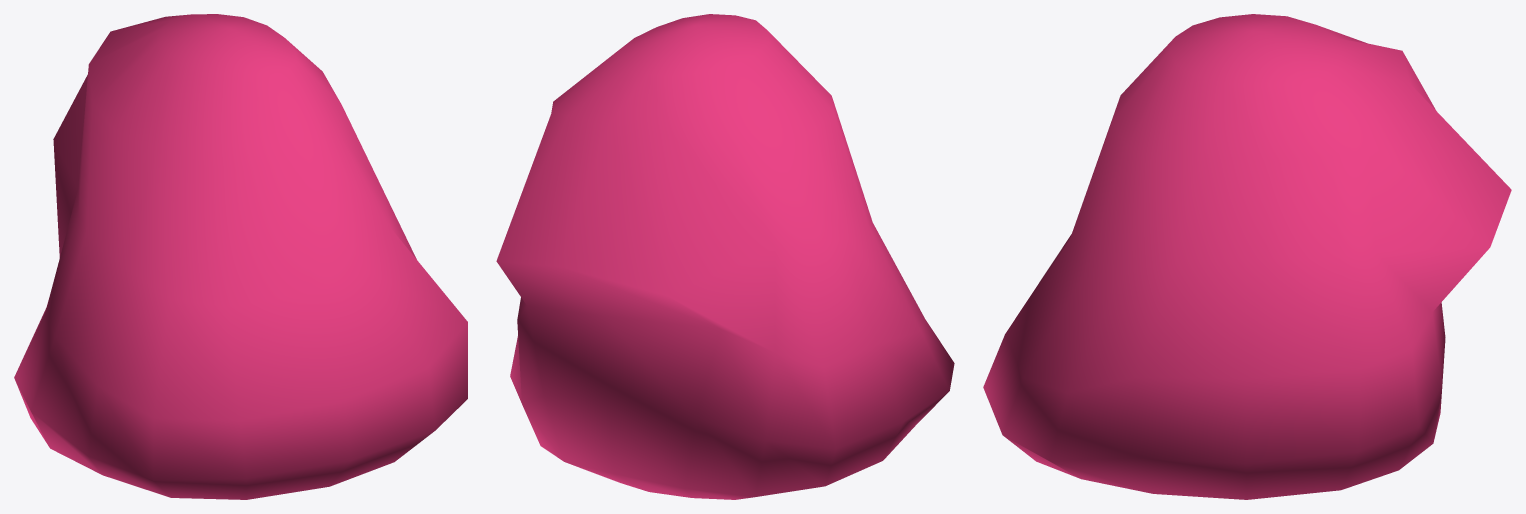
The model's file is ball.FBX.
The picture shows the model from 3 angles, left to right: view 1: azimuth 30°, elevation 25°; view 2: azimuth 150°, elevation 25°; view 3: azimuth 270°, elevation 25°; orthographic projection. The views are drawn at different scales.
Parts seen in each view (by area): view 1: Sphere001; view 2: Sphere001; view 3: Sphere001.
Part boxes in pixels (x1,y1,x2,y2): Sphere001: [14, 14, 467, 499]; Sphere001: [496, 14, 954, 499]; Sphere001: [983, 14, 1511, 499].
Size of the model in its own units: 0.4443 by 0.5013 by 0.5426.
